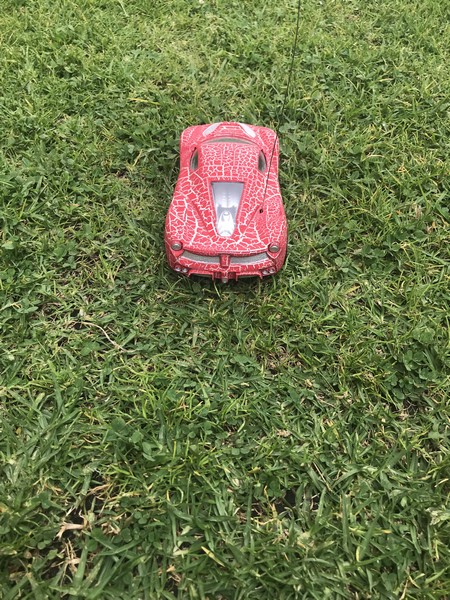RC: (163, 121, 290, 285)
